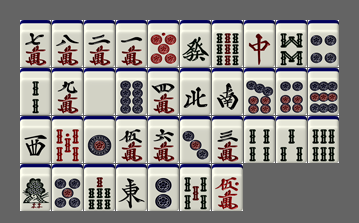0m: (212, 164, 243, 211)
0p: (148, 20, 179, 67)
0s: (52, 116, 83, 163)
1m: (116, 20, 147, 67)
1p: (84, 116, 115, 163)
1s: (20, 164, 51, 211)
1z: (116, 164, 147, 211)
2m: (84, 20, 115, 67)
2p: (148, 164, 179, 211)
2s: (20, 68, 51, 115)
2z: (212, 68, 243, 115)
3m: (212, 116, 243, 163)
3p: (180, 116, 211, 163)
3s: (276, 116, 307, 163)
3z: (20, 116, 51, 163)
4m: (148, 68, 179, 115)
4p: (308, 20, 339, 67)
4s: (244, 116, 275, 163)
4z: (180, 68, 211, 115)
5m: (116, 116, 147, 163)
5p: (52, 164, 83, 211)
5s: (180, 164, 211, 211)
5z: (84, 68, 115, 115)
6m: (148, 116, 179, 163)
6p: (276, 68, 307, 115)
6s: (308, 116, 339, 163)
6z: (180, 20, 211, 67)
7m: (20, 20, 51, 67)
7p: (244, 68, 275, 115)
7s: (84, 164, 115, 211)
7z: (244, 20, 275, 67)
8m: (52, 20, 83, 67)
8p: (116, 68, 147, 115)
8s: (276, 20, 307, 67)
9m: (52, 68, 83, 115)
9p: (308, 68, 339, 115)
9s: (212, 20, 243, 67)
